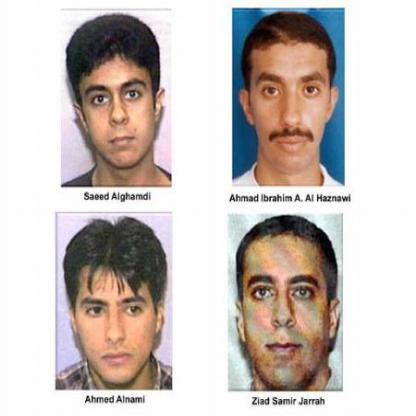face: (244, 218, 332, 392), (78, 228, 157, 387), (253, 16, 330, 178), (83, 22, 157, 170)
